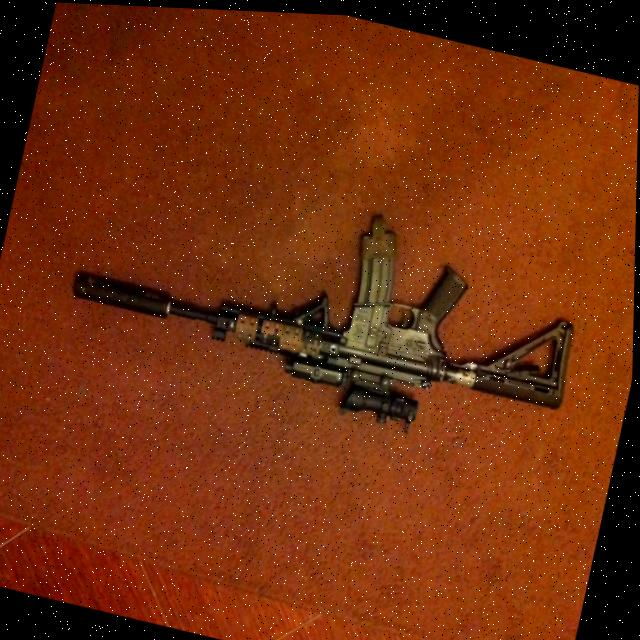firearm: (54, 141, 596, 465)
